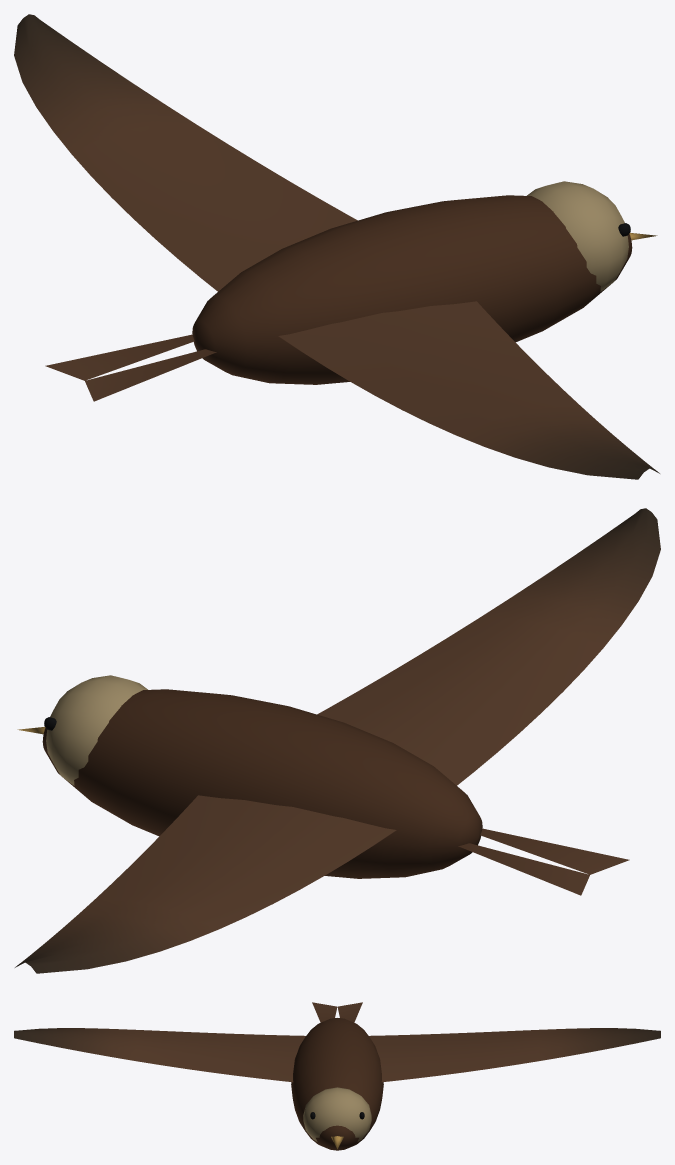
File: SM_DBA_Bird_Eagle_Flight.fbx
3 renders of one model, top to bottom at view 1: azimuth 30°, elevation 25°; view 2: azimuth 150°, elevation 25°; view 3: azimuth 270°, elevation 25°, orthographic. The views are drawn at different scales.
Parts seen in each view (by area): view 1: SM_DBA_Bird_Eagle; view 2: SM_DBA_Bird_Eagle; view 3: SM_DBA_Bird_Eagle.
Boxes of the visible parts, x1=… form: SM_DBA_Bird_Eagle: x1=14, y1=14, x2=659, y2=479; SM_DBA_Bird_Eagle: x1=15, y1=508, x2=660, y2=973; SM_DBA_Bird_Eagle: x1=14, y1=1002, x2=660, y2=1150.
Bounding box in the file's own units: 2.79 × 1.53 × 0.36.
